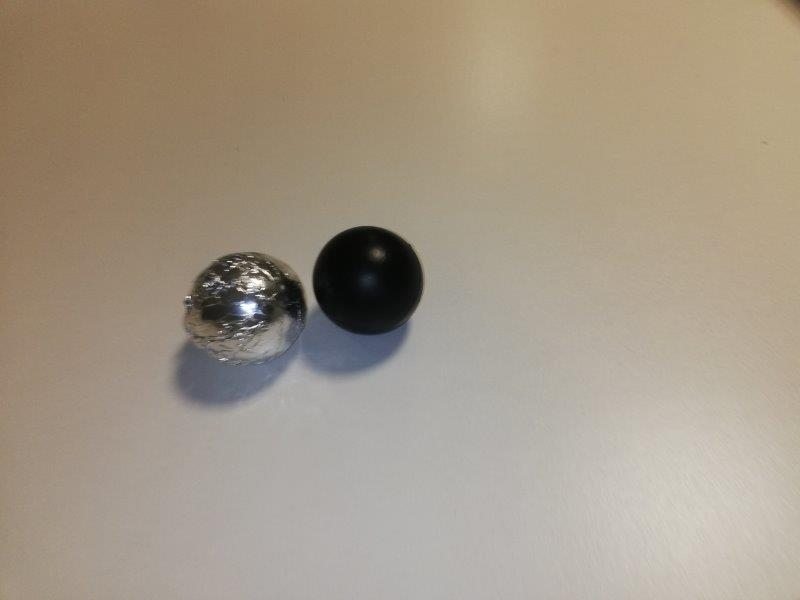bianca: (177, 250, 308, 362)
nera: (312, 227, 422, 332)
